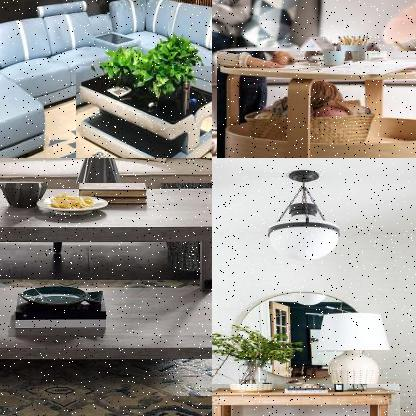table: (0, 183, 211, 398), (217, 50, 415, 157), (76, 66, 211, 157), (212, 384, 402, 415)
